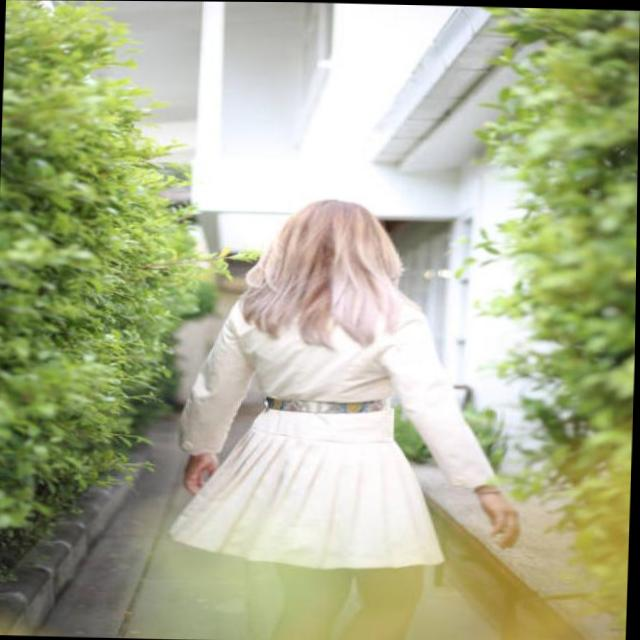no helmet: (208, 186, 446, 330)
